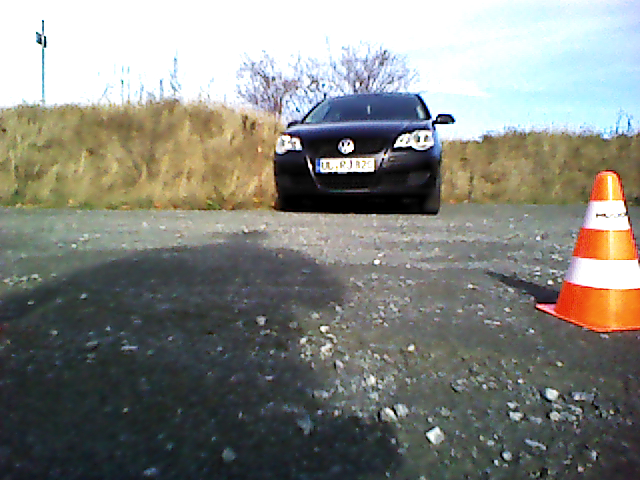orangeconesmall: (546, 172, 640, 333)
